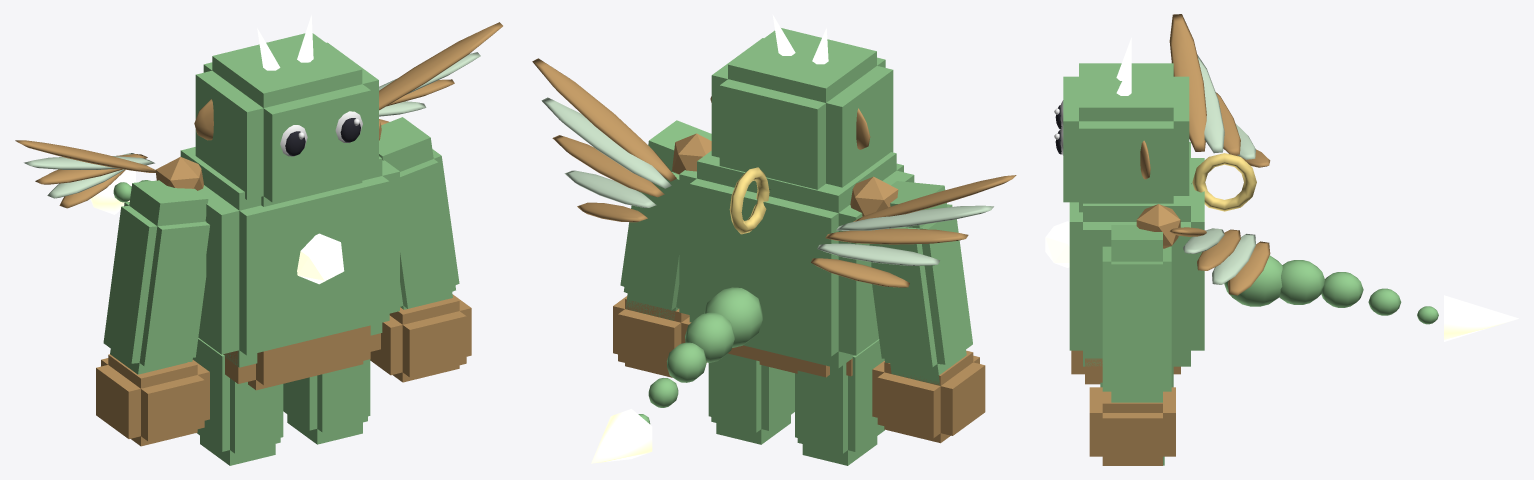
File: forest_golem_04.glb
The picture shows the model from 3 angles, left to right: view 1: azimuth 30°, elevation 25°; view 2: azimuth 150°, elevation 25°; view 3: azimuth 270°, elevation 25°; orthographic projection. The views are drawn at different scales.
Parts seen in each view (by area): view 1: box; view 2: box; view 3: box.
Boxes of the visible parts, left/top/right/bottom form: box: left=15, top=15, right=502, bottom=465; box: left=532, top=14, right=1016, bottom=465; box: left=1045, top=14, right=1518, bottom=465.
Size of the model in its own units: 2.39 by 1.98 by 2.2.
